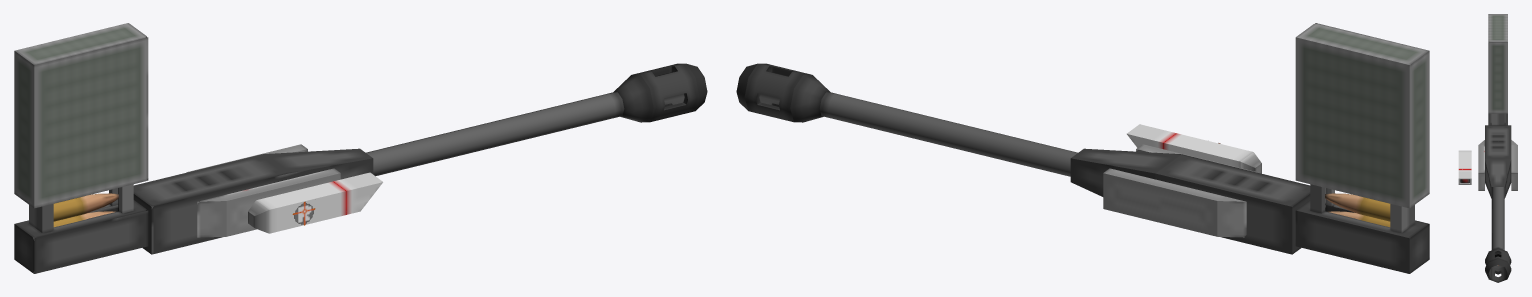
Rendered from turret_jeremy.obj.
3 renders of one model, left to right at view 1: azimuth 30°, elevation 25°; view 2: azimuth 150°, elevation 25°; view 3: azimuth 270°, elevation 25°, orthographic. The views are drawn at different scales.
Parts seen in each view (by area): view 1: Gun; view 2: Gun; view 3: Gun.
Part boxes in pixels (box(x1,y1,x2,y2)): Gun: box(14, 23, 707, 273); Gun: box(736, 23, 1429, 273); Gun: box(1458, 14, 1517, 282).
Size of the model in its own units: 7.38 by 2.25 by 1.13.
